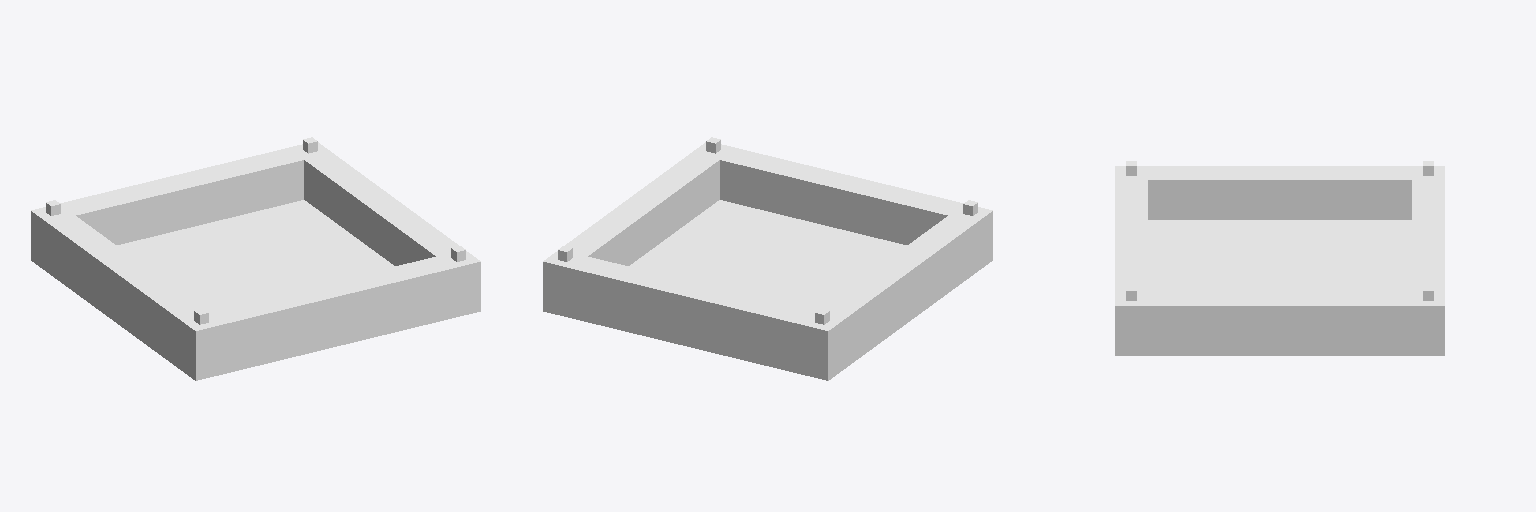
The model's file is drop.obj.
The picture shows the model from 3 angles: view 1: azimuth 30°, elevation 25°; view 2: azimuth 150°, elevation 25°; view 3: azimuth 270°, elevation 25°; orthographic projection.
Parts seen in each view (by area): view 1: object 1; view 2: object 1; view 3: object 1.
Part boxes in pixels (x1,y1,x2,y2): object 1: (31,137,480,380); object 1: (543,137,992,380); object 1: (1115,161,1444,355).
Bounding box in the file's own units: 3 × 0.6 × 3.